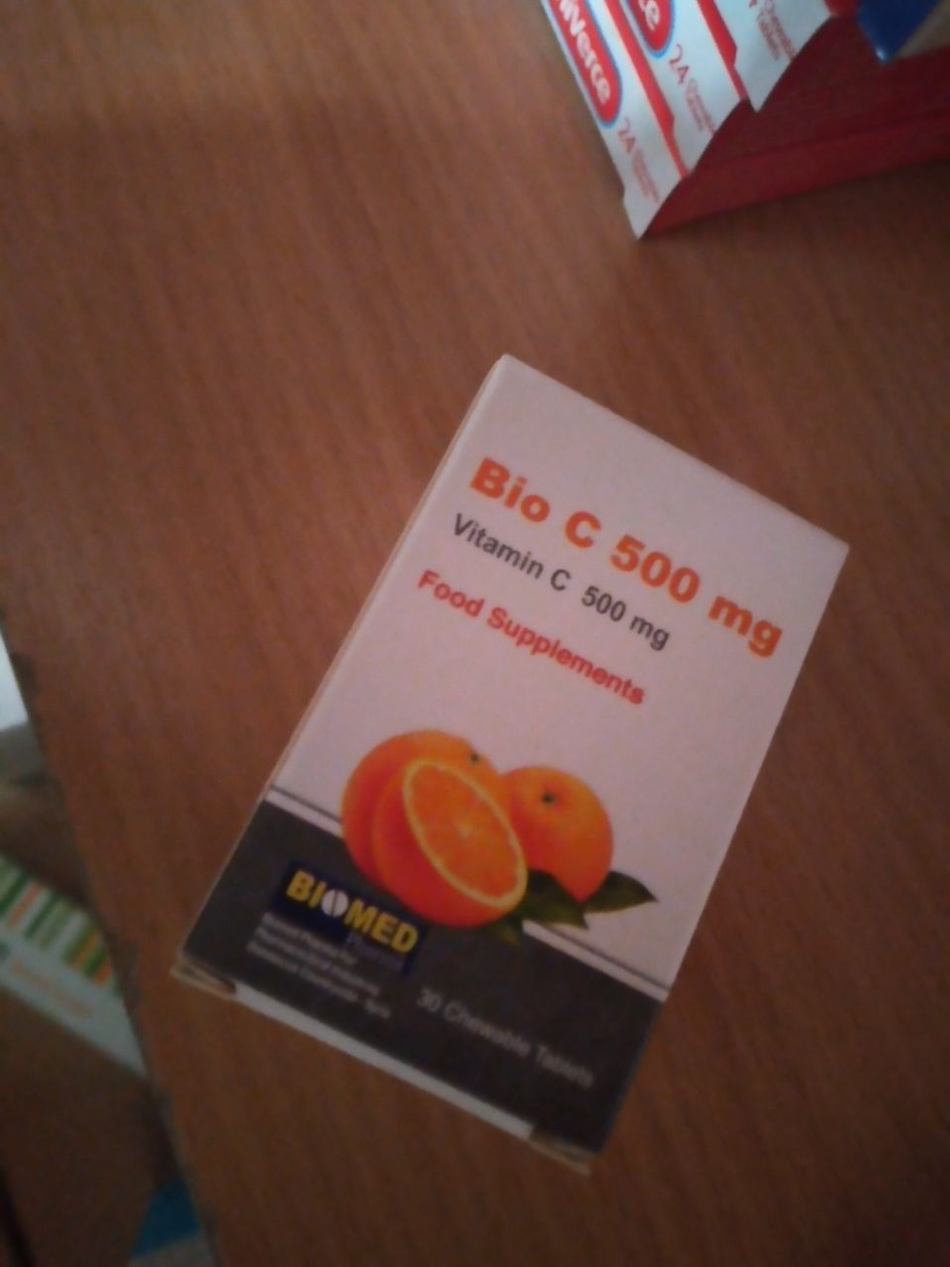Medicine: (175, 333, 841, 1188)
